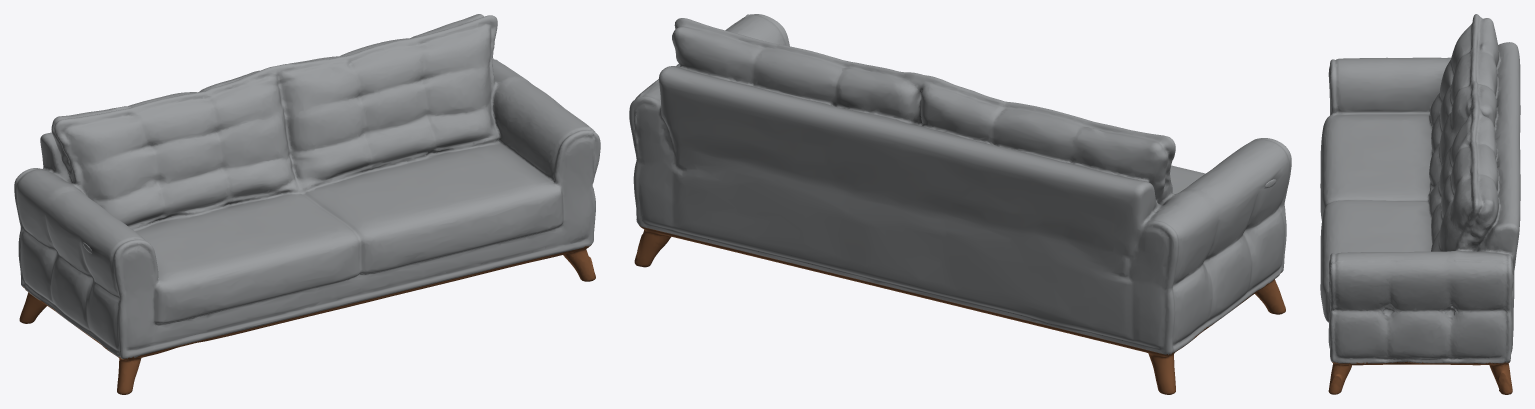
File: paris-214.glb
The picture shows the model from 3 angles, left to right: view 1: azimuth 30°, elevation 25°; view 2: azimuth 150°, elevation 25°; view 3: azimuth 270°, elevation 25°; orthographic projection. The views are drawn at different scales.
Parts seen in each view (by area): view 1: Sofa; view 2: Sofa; view 3: Sofa.
Boxes of the visible parts, x1=… form: Sofa: x1=14, y1=14, x2=600, y2=394; Sofa: x1=629, y1=14, x2=1291, y2=394; Sofa: x1=1320, y1=14, x2=1520, y2=394.
Size of the model in its own units: 2.14 by 0.88 by 0.85.
